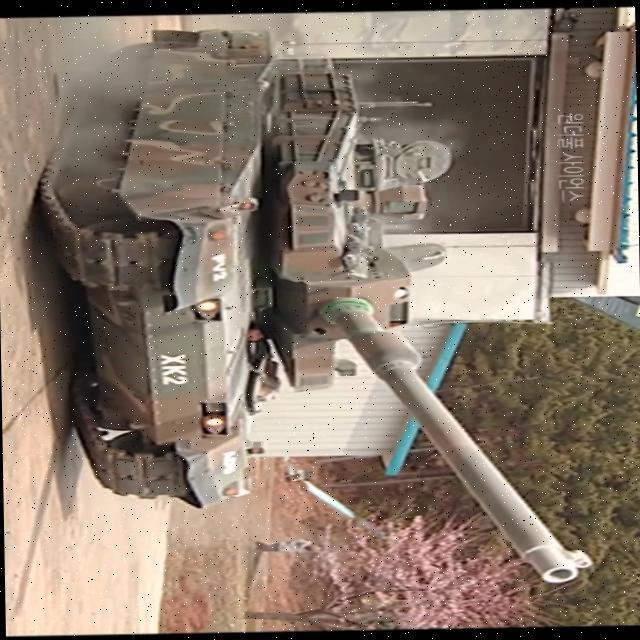korea tank: (33, 19, 594, 591)
